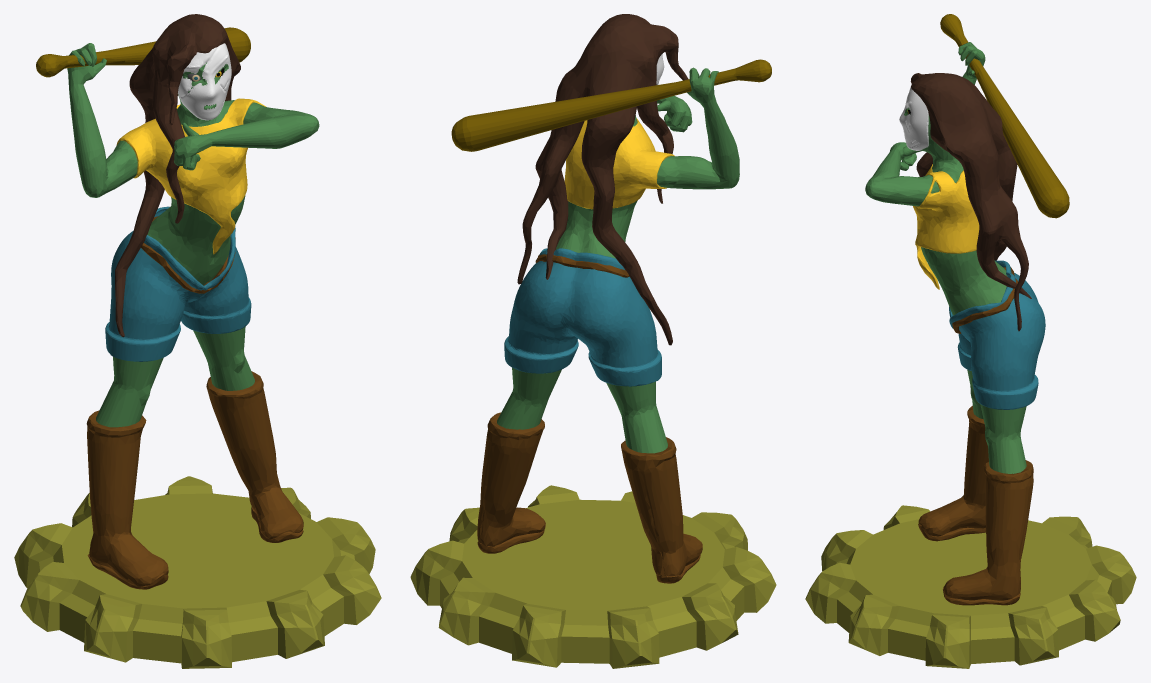
The model's file is FemaleBossReducedMoreUnified.fbx.
3 renders of one model, left to right at view 1: azimuth 30°, elevation 25°; view 2: azimuth 150°, elevation 25°; view 3: azimuth 270°, elevation 25°, orthographic. The views are drawn at different scales.
Parts seen in each view (by area): view 1: polySurface3, polySurface14; view 2: polySurface3; view 3: polySurface3, polySurface14.
Part boxes in pixels (x1=…): polySurface3: x1=14, y1=14, x2=381, y2=668; polySurface14: x1=178, y1=43, x2=231, y2=120; polySurface3: x1=410, y1=14, x2=776, y2=668; polySurface3: x1=805, y1=14, x2=1136, y2=668; polySurface14: x1=899, y1=87, x2=928, y2=150.
Bounding box in the file's own units: 5.47 × 9.26 × 5.31.
